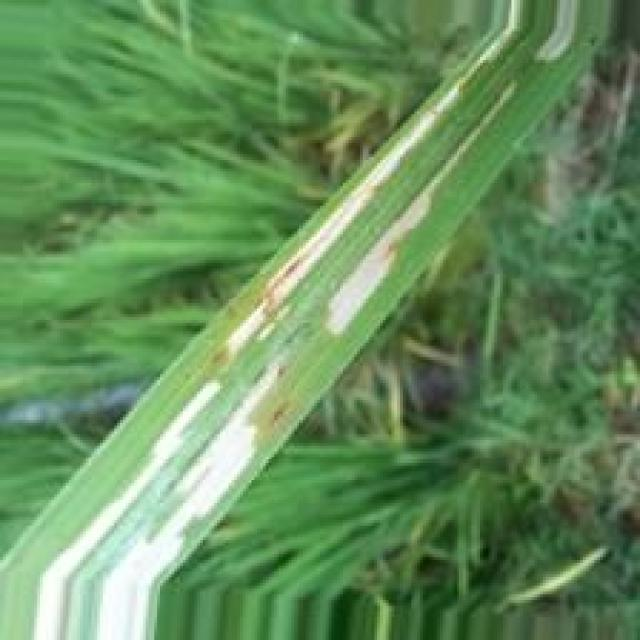Rice_Hispa: (218, 2, 522, 368), (91, 364, 279, 638), (30, 380, 224, 640), (327, 85, 513, 343)
